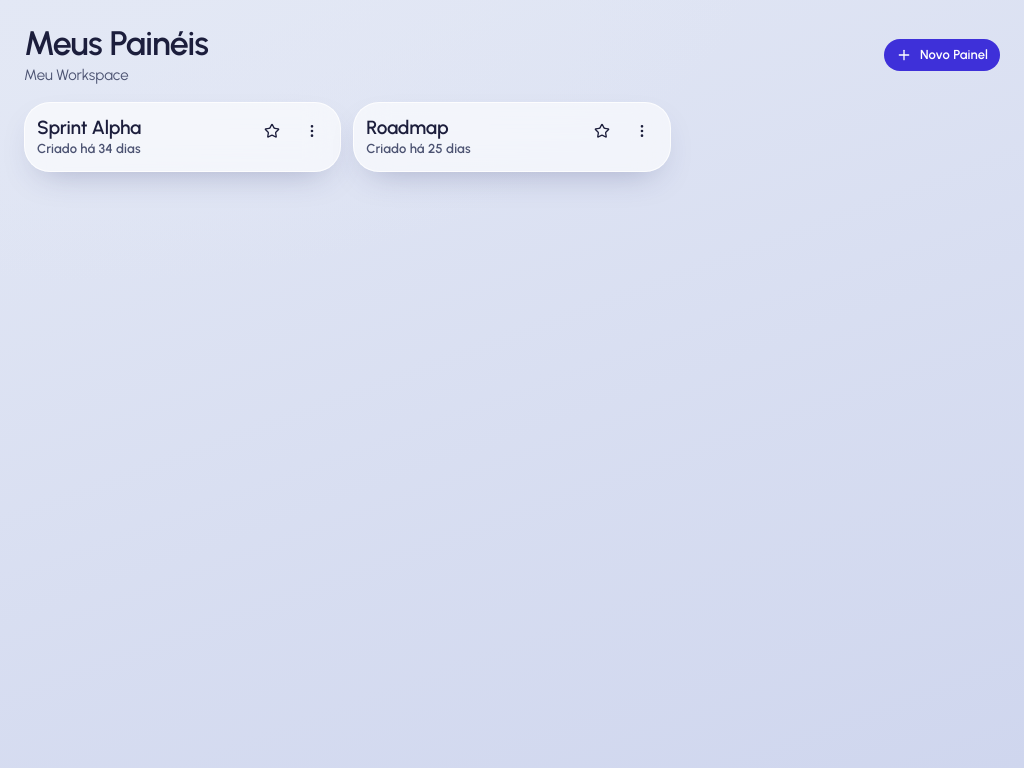
PaineisPage › "Renomear" no card abre o formulário com o nome do board
Click the button named "Ações de Roadmap" next to "há 25 dias": [642, 131] box [626,115,658,147]
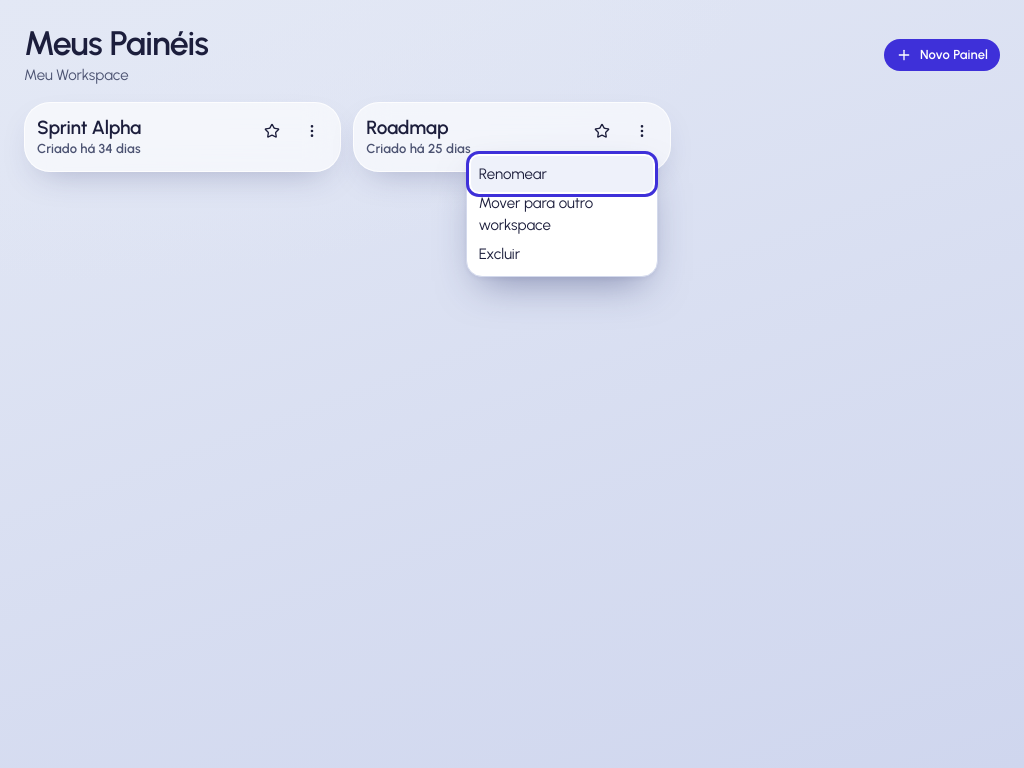
Click the menu item "Renomear": [562, 174] box [471,156,653,192]
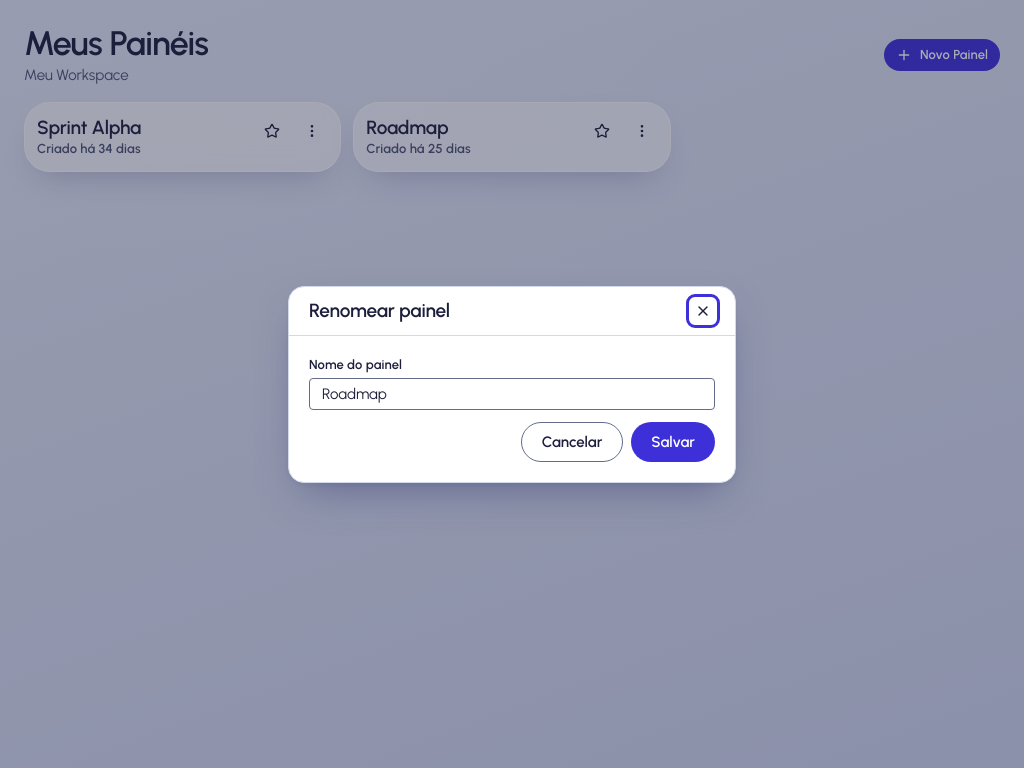
Now the dialog "Renomear painel" is shown, box [288,286,736,482]
Now the field labelled "Nome do painel" holds "Roadmap", box [309,378,715,410]
